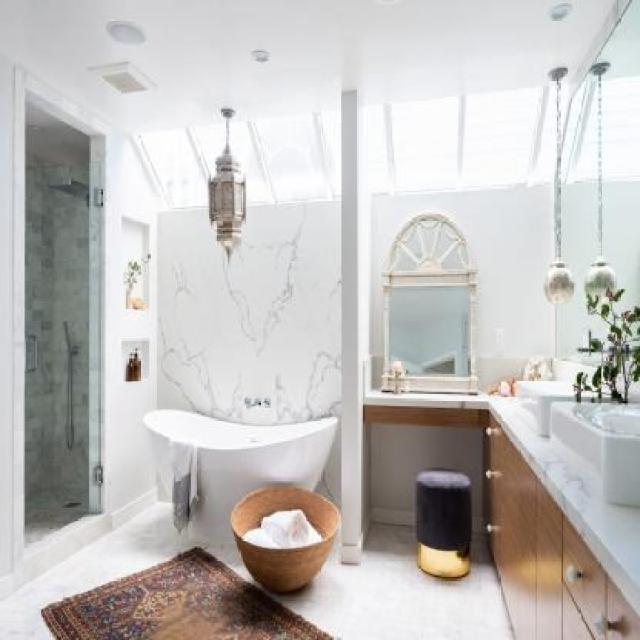floor: (2, 505, 516, 640)
